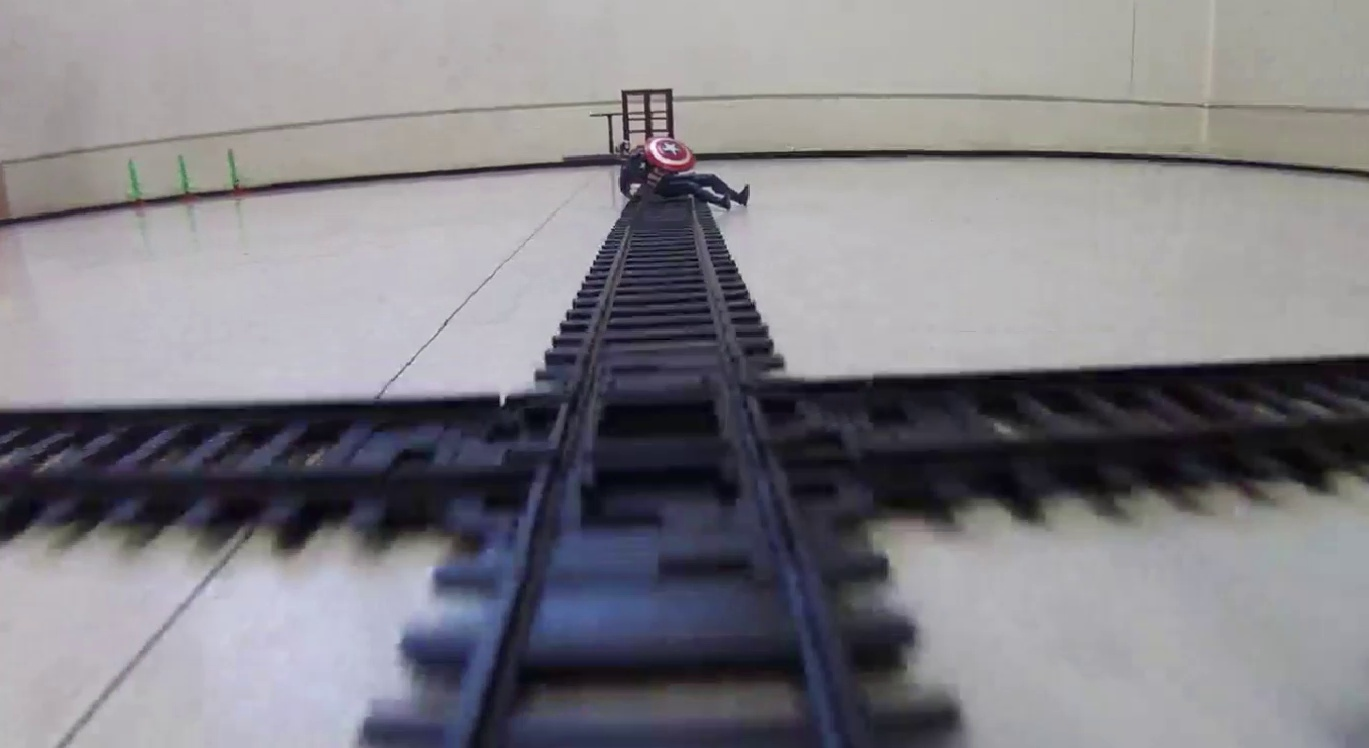people: (614, 136, 752, 210)
